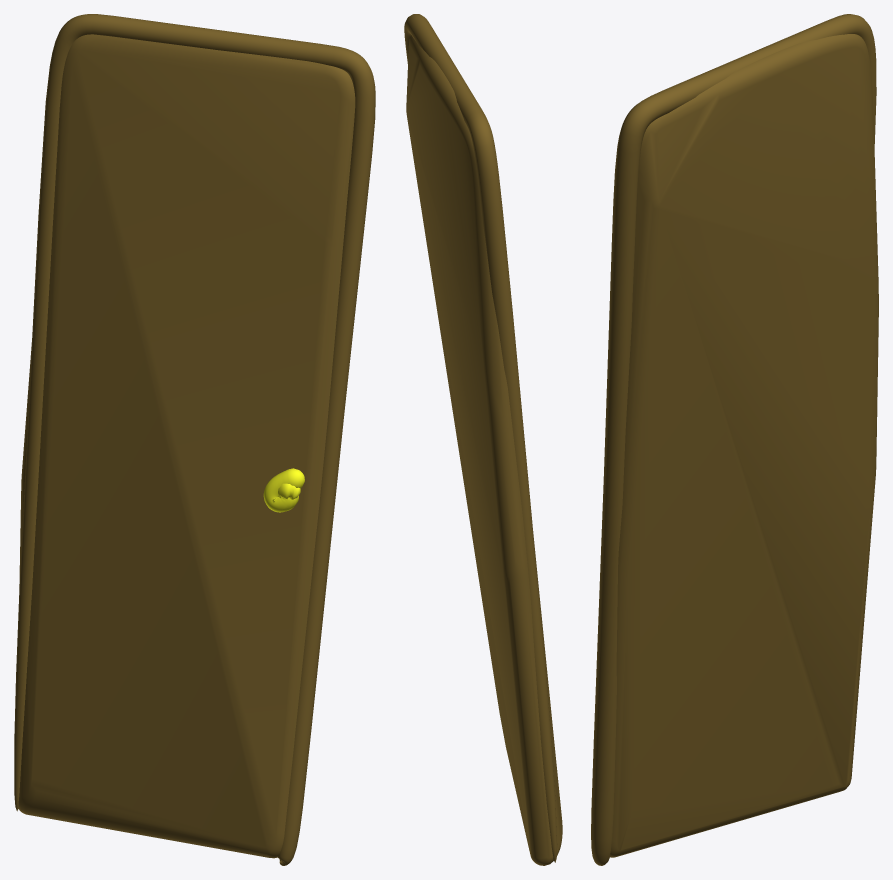
File: door.fbx
The picture shows the model from 3 angles, left to right: view 1: azimuth 30°, elevation 25°; view 2: azimuth 150°, elevation 25°; view 3: azimuth 270°, elevation 25°; orthographic projection. The views are drawn at different scales.
Parts seen in each view (by area): view 1: s.0006, s.0005, s.0008; view 2: s.0006, s.0005; view 3: s.0006, s.0005.
Part boxes in pixels (box(x1,y1,x2,y2)): s.0006: box(18, 34, 355, 858); s.0005: box(14, 14, 375, 865); s.0008: box(263, 468, 304, 512); s.0006: box(406, 35, 562, 865); s.0005: box(404, 14, 557, 862); s.0006: box(610, 34, 878, 857); s.0005: box(591, 14, 876, 865).
Bounding box in the file's own units: 65.15 × 60.55 × 188.
